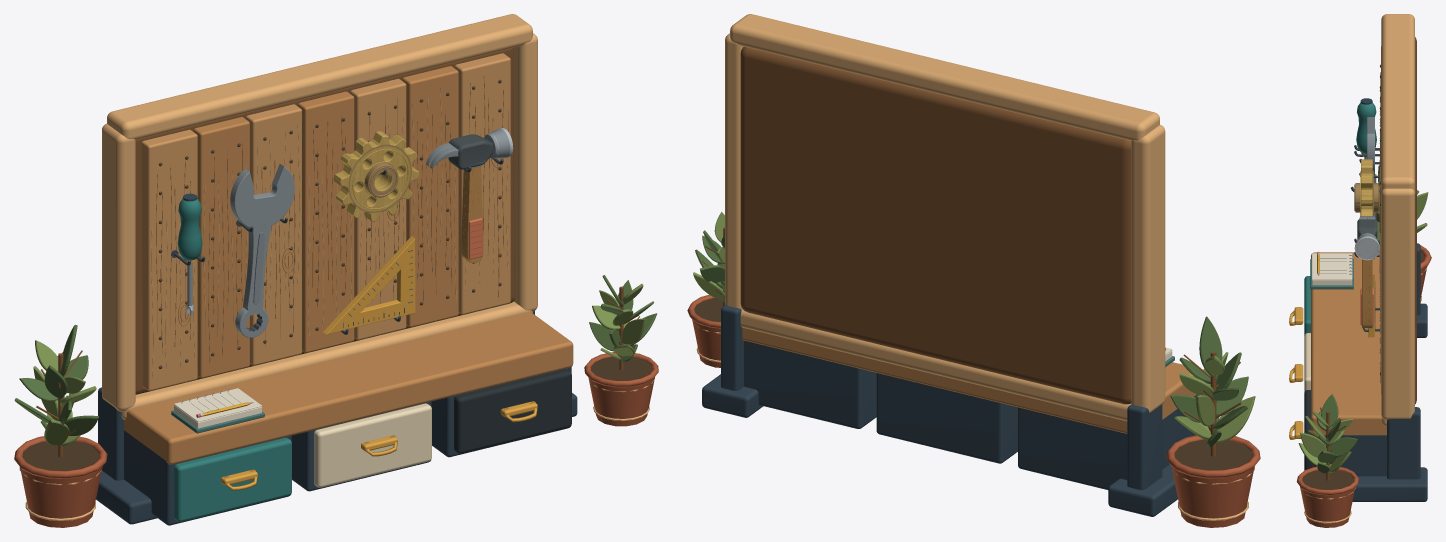
File: workshop-rack-wrench-mounts-export.glb
3 views of the same model, side by side, from view 1: azimuth 30°, elevation 25°; view 2: azimuth 150°, elevation 25°; view 3: azimuth 270°, elevation 25° (orthographic). The views are drawn at different scales.
Parts seen in each view (by area): view 1: timber, plank, Refined_Frame_Top, navy, Refined_Frame_Side_-069, cream, teal, Refined_Grey_Drawer, Refined_Frame_Side_069, grain, Refined_Frame_Bottom, brass_2 (+13 smaller); view 2: darkWood, navy, Refined_Frame_Top, Refined_Frame_Side_-069, Refined_Frame_Bottom, timber, pot, Refined_Frame_Side_069, soil, pot_1, Leaf 8, Leaf 1; view 3: timber, Refined_Frame_Side_069, navy, Refined_Frame_Top, pot_1, brass_2, Notebook_element_3, soil_1, Wood_Handle, darkWood, Refined_Original_Yellow_Handles, Teal_Handle (+17 smaller).
Boxes of the visible parts, x1,y1,x2,y2 form: timber: (124,66,573,464); plank: (141,53,510,390); Refined_Frame_Top: (107,14,532,139); navy: (96,311,577,525); Refined_Frame_Side_-069: (102,123,135,411); cream: (314,403,431,487); teal: (174,437,291,521); Refined_Grey_Drawer: (454,369,571,453); Refined_Frame_Side_069: (513,33,537,311); grain: (156,76,503,363); Refined_Frame_Bottom: (121,301,532,419); brass_2: (333,131,419,221); darkWood: (740,46,1131,404); navy: (702,305,1198,516); Refined_Frame_Top: (730,14,1159,140); Refined_Frame_Side_-069: (1131,125,1165,412); Refined_Frame_Bottom: (740,309,1131,421); timber: (742,327,1196,433); pot: (1166,435,1260,527); Refined_Frame_Side_069: (725,33,743,309); soil: (1174,439,1252,470); pot_1: (687,294,720,367); Leaf 8: (1199,316,1222,377); Leaf 1: (1216,396,1255,442); timber: (1311,68,1386,435); Refined_Frame_Side_069: (1381,188,1414,420); navy: (1314,243,1427,501); Refined_Frame_Top: (1381,14,1414,189); pot_1: (1296,466,1359,527); brass_2: (1354,159,1379,216); Notebook_element_3: (1312,253,1352,280); soil_1: (1302,470,1353,489); Wood_Handle: (1362,259,1372,328); darkWood: (1414,37,1416,404); Refined_Original_Yellow_Handles: (1289,307,1303,439); Teal_Handle: (1356,102,1376,153).
Size of the model in its own units: 2.04 by 1.25 by 0.5082.
Materials: 60 (1 with a texture image).
